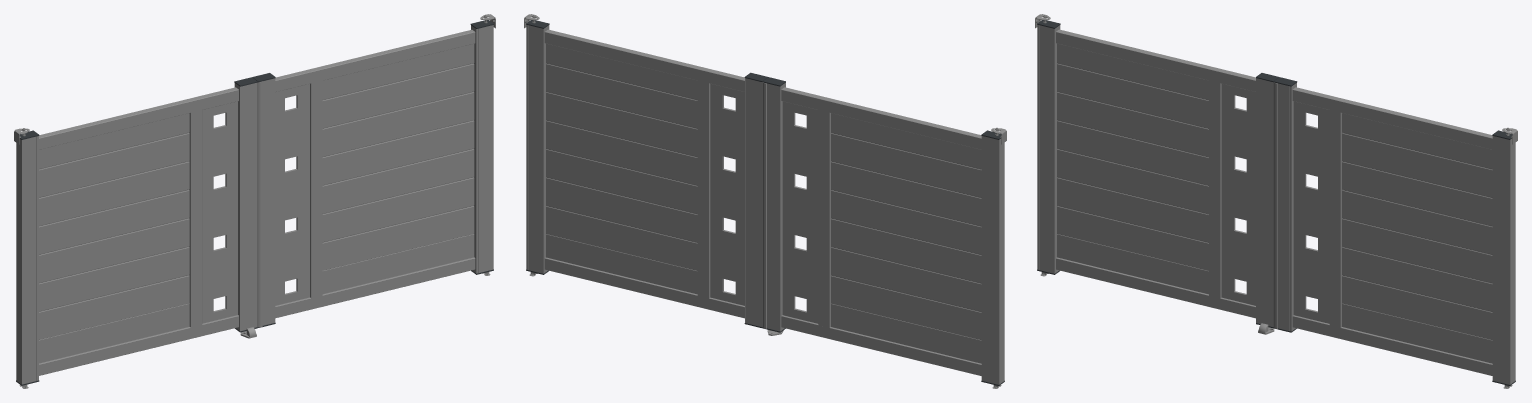
3 views of the same model, side by side, from view 1: azimuth 30°, elevation 25°; view 2: azimuth 150°, elevation 25°; view 3: azimuth 330°, elevation 25° (orthographic).
Parts seen in each view (by area): view 1: carre, carre001, Shape107412643, Shape107412644, Shape107412971, Shape107412866, Shape107412864, Shape107412865, Shape107412861, Shape107412863, Shape107412862, Shape107412854 (+17 smaller); view 2: carre, carre001, Shape107412643, Shape107412971, Shape107412861, Shape107412862, Shape107412864, Shape107412865, Shape107412866, Shape107412863, Shape107412972, Shape107412850 (+17 smaller); view 3: carre001, carre, Shape107412971, Shape107412643, Shape107412853, Shape107412851, Shape107412852, Shape107412854, Shape107412855, Shape107412850, Shape107412644, Shape107412865 (+17 smaller).
Part boxes in pixels (x1,y1,x2,y2): carre: (202, 101, 237, 323); carre001: (275, 84, 309, 305); Shape107412643: (16, 136, 38, 384); Shape107412644: (234, 83, 257, 331); Shape107412971: (471, 25, 493, 273); Shape107412866: (322, 205, 474, 270); Shape107412864: (322, 148, 474, 213); Shape107412865: (322, 177, 474, 242); Shape107412861: (322, 63, 474, 128); Shape107412863: (322, 120, 474, 185); Shape107412862: (322, 91, 474, 156); Shape107412854: (39, 246, 189, 311); carre: (782, 101, 818, 323); carre001: (710, 83, 744, 305); Shape107412643: (981, 136, 1004, 384); Shape107412971: (526, 24, 549, 273); Shape107412861: (546, 63, 697, 128); Shape107412862: (546, 91, 697, 156); Shape107412864: (546, 148, 697, 213); Shape107412865: (546, 177, 697, 242); Shape107412866: (546, 205, 697, 270); Shape107412863: (546, 120, 697, 185); Shape107412972: (745, 78, 762, 326); Shape107412850: (831, 132, 981, 197); carre001: (1293, 101, 1329, 323); carre: (1221, 84, 1255, 305); Shape107412971: (1492, 136, 1515, 384); Shape107412643: (1037, 24, 1060, 273); Shape107412853: (1057, 148, 1208, 213); Shape107412851: (1057, 91, 1208, 156); Shape107412852: (1057, 120, 1208, 185); Shape107412854: (1057, 177, 1208, 242); Shape107412855: (1057, 205, 1208, 270); Shape107412850: (1057, 63, 1208, 128); Shape107412644: (1256, 78, 1273, 326); Shape107412865: (1342, 246, 1492, 311).
Size of the model in its own units: 3259 by 1693 by 116.
Materials: 7 (2 with a texture image).
